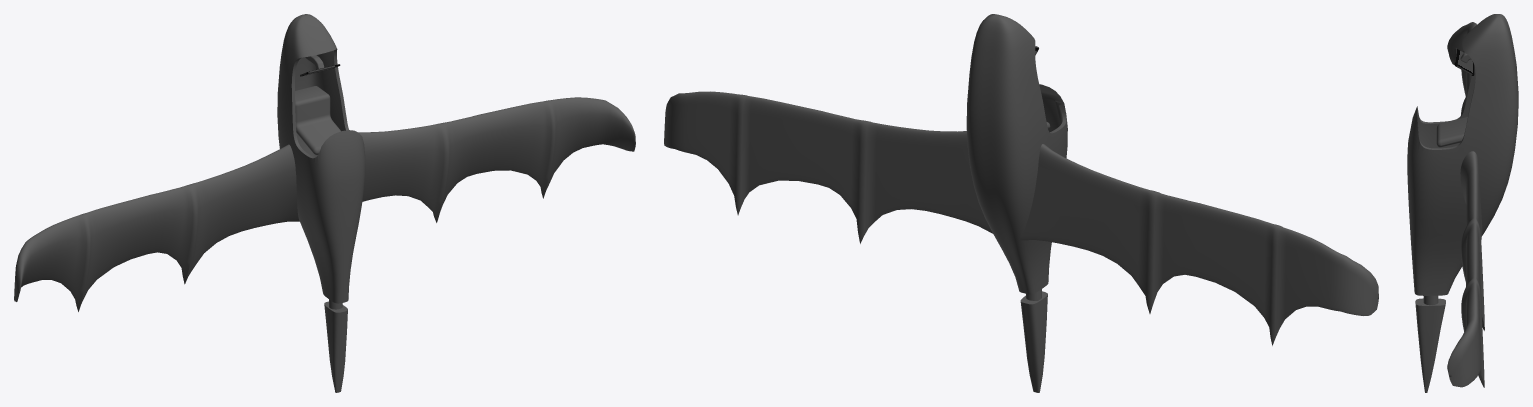
Rendered from bat-rider.glb.
3 views of the same model, side by side, from view 1: azimuth 30°, elevation 25°; view 2: azimuth 150°, elevation 25°; view 3: azimuth 270°, elevation 25° (orthographic). The views are drawn at different scales.
Visible parts, largest first — view 1: Wing, Body, Chair; view 2: Wing, Body; view 3: Body, Wing, Chair, Computer.
Boxes of the visible parts, x1,y1,x2,y2 form: Wing: (14, 97, 635, 311); Body: (277, 14, 365, 392); Chair: (295, 86, 340, 154); Wing: (664, 91, 1378, 345); Body: (966, 14, 1067, 392); Body: (1407, 14, 1518, 392); Wing: (1447, 22, 1484, 387); Chair: (1436, 116, 1467, 147); Computer: (1454, 48, 1474, 75).
Size of the model in its own units: 10.21 by 5.57 by 1.5.
3 materials, 1 textured.
